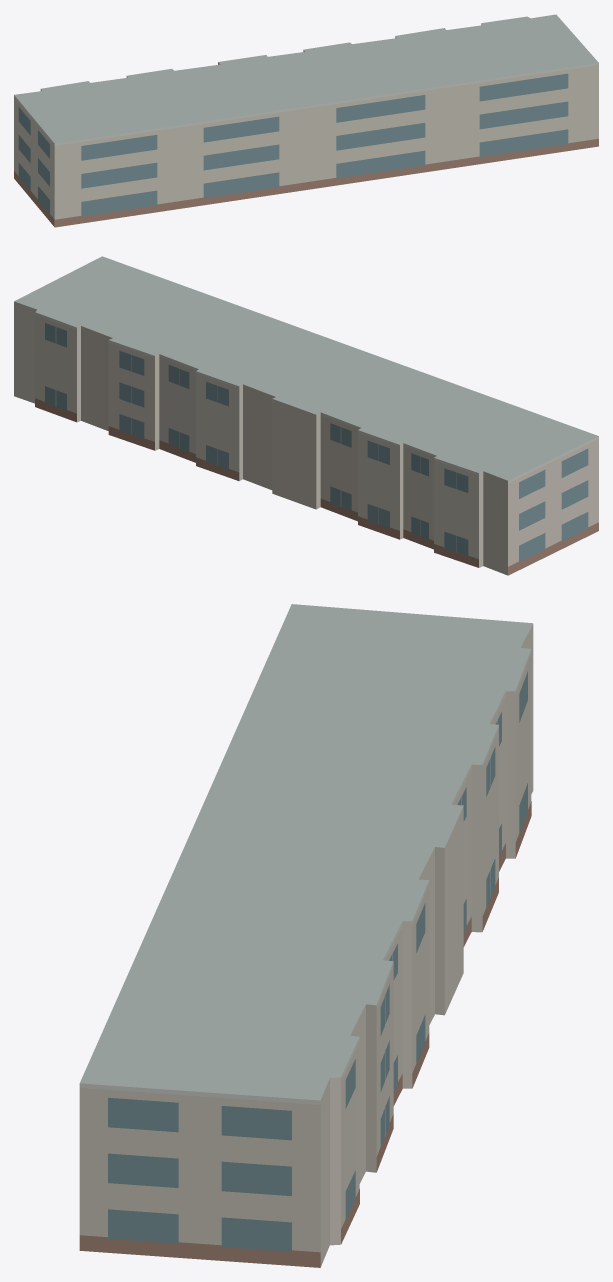
File: survey-upis-32894703.glb
3 renders of one model, top to bottom at view 1: azimuth 30°, elevation 25°; view 2: azimuth 150°, elevation 25°; view 3: azimuth 270°, elevation 25°, orthographic. The views are drawn at different scales.
Visible parts, largest first — view 1: survey-upis-32894703.tmp; view 2: survey-upis-32894703.tmp; view 3: survey-upis-32894703.tmp.
Part boxes in pixels (bbox=[...]): survey-upis-32894703.tmp: bbox=[14, 14, 598, 227]; survey-upis-32894703.tmp: bbox=[14, 256, 598, 575]; survey-upis-32894703.tmp: bbox=[79, 604, 533, 1267].
Bounding box in the file's own units: 58.21 × 9.15 × 22.49.
